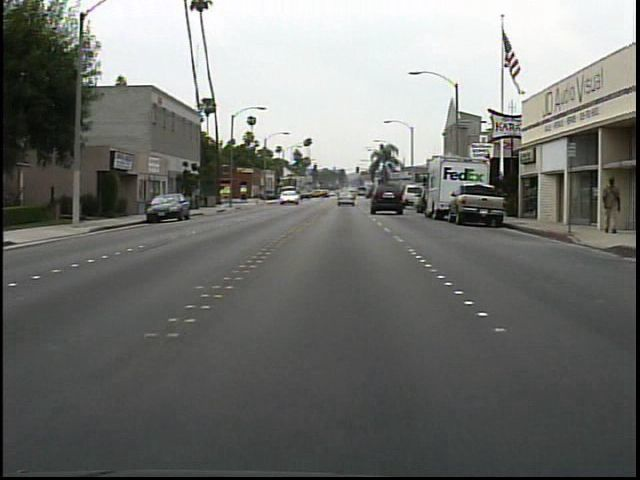person: (595, 174, 624, 237)
